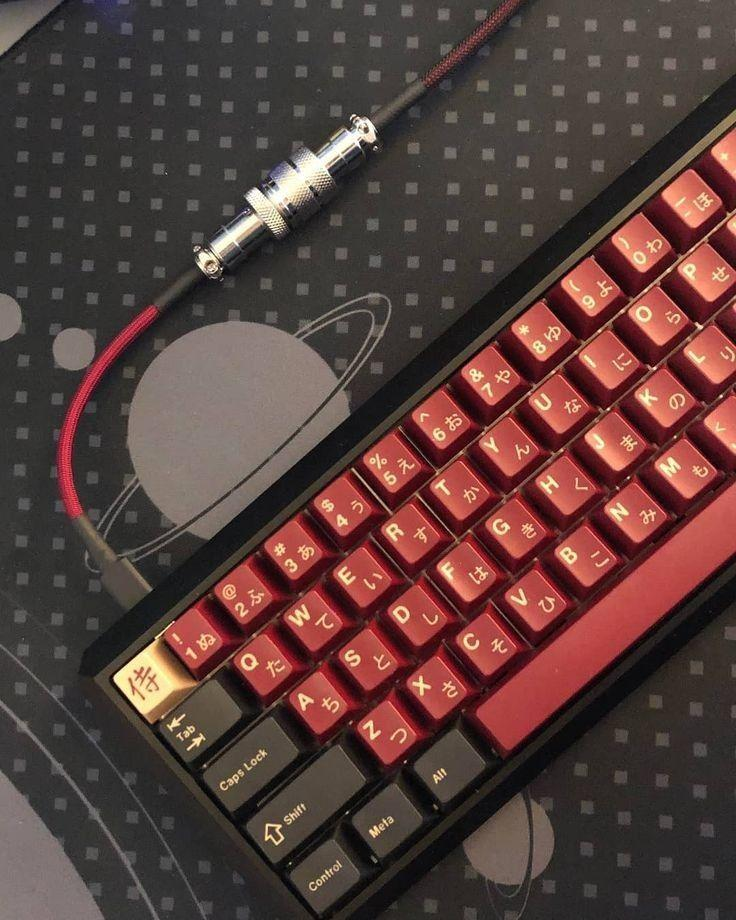keyboard: (81, 71, 735, 918)
